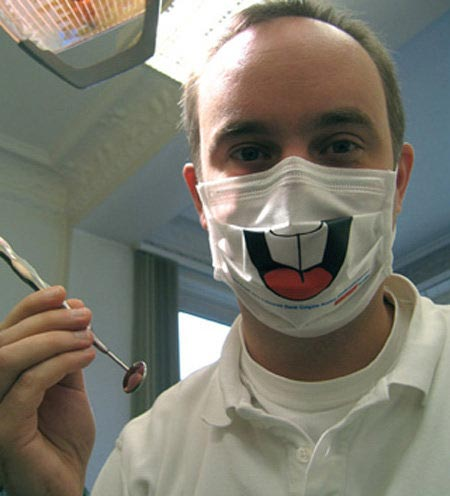with_mask: (207, 115, 387, 306)
